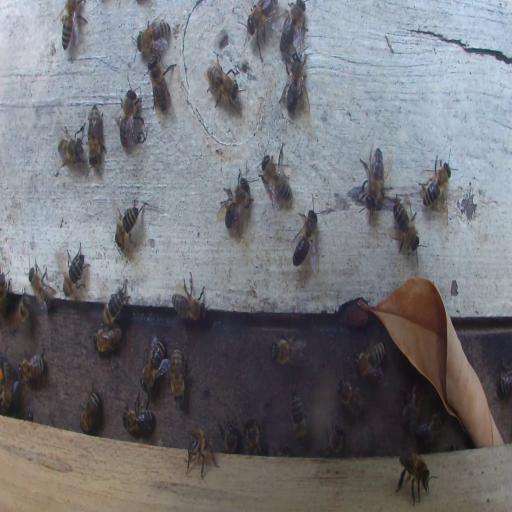nonpollenbee: (218, 166, 254, 239), (417, 152, 455, 209), (396, 450, 434, 504), (278, 50, 310, 113), (260, 148, 293, 209), (116, 84, 146, 148), (360, 145, 390, 207), (171, 274, 208, 324), (205, 57, 239, 110), (184, 426, 218, 478), (390, 195, 419, 255), (292, 208, 320, 269), (54, 0, 87, 51), (146, 55, 174, 115), (245, 0, 275, 53), (269, 330, 307, 368), (113, 203, 144, 249), (28, 261, 54, 315), (135, 14, 170, 54), (63, 244, 88, 298), (141, 339, 166, 393), (101, 282, 130, 328), (400, 382, 426, 433), (354, 340, 386, 380), (281, 2, 306, 48), (337, 377, 365, 418), (416, 411, 444, 448), (58, 124, 83, 165), (87, 105, 103, 169), (168, 346, 186, 402), (122, 406, 154, 436), (290, 389, 308, 442), (80, 388, 100, 434), (318, 424, 346, 456), (93, 325, 122, 353), (18, 354, 45, 383), (14, 292, 31, 332), (244, 417, 261, 455), (220, 422, 238, 454), (500, 360, 512, 397), (0, 273, 8, 310)
pollenbee: (0, 359, 18, 415)
